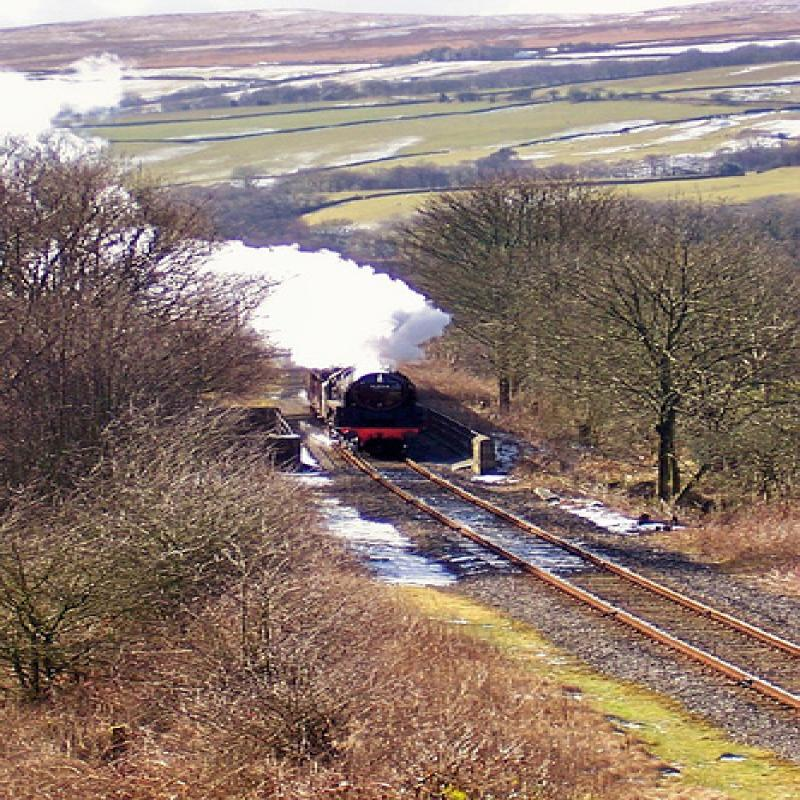train: (306, 366, 429, 457)
